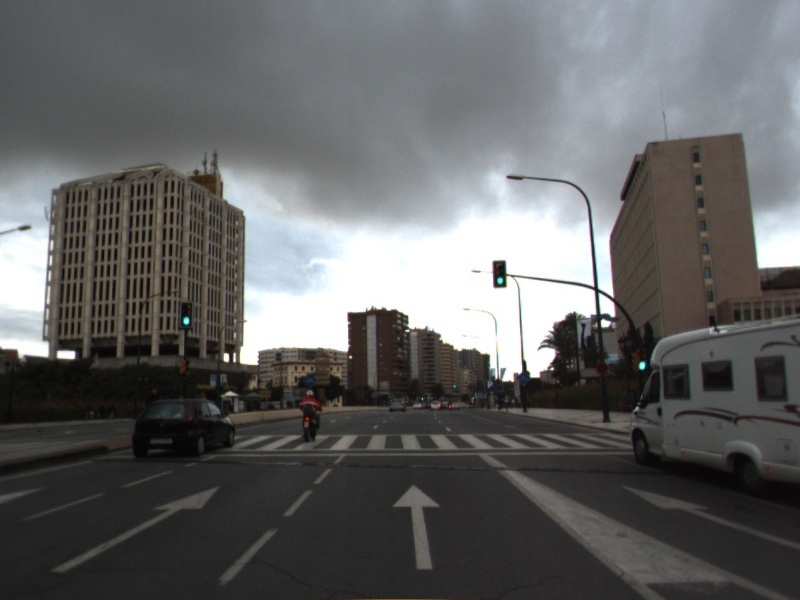STRAIGHT: (47, 483, 224, 576), (617, 482, 800, 552), (389, 481, 444, 572)
